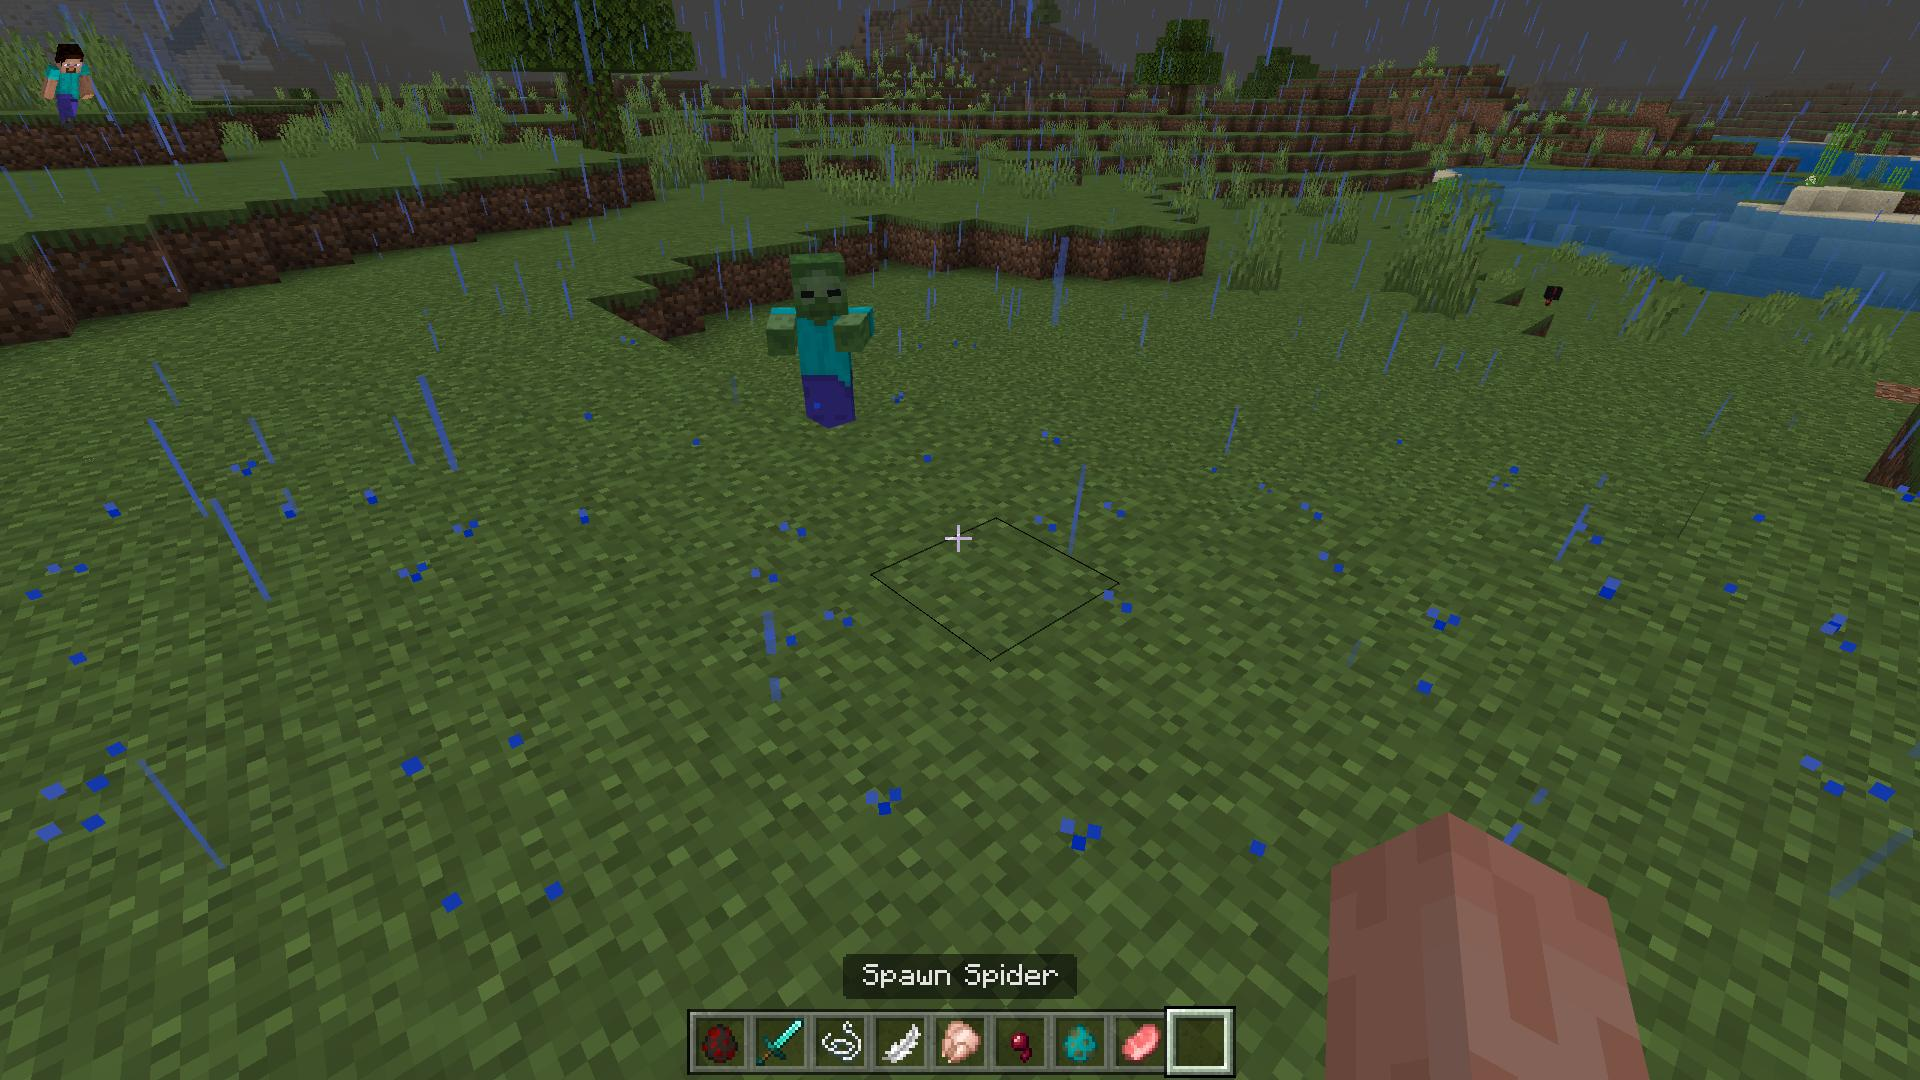zombie: (764, 251, 877, 427)
